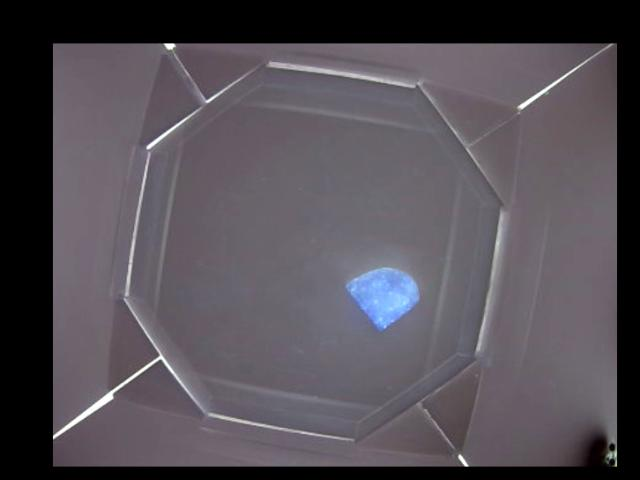Potato: (346, 265, 417, 328)
